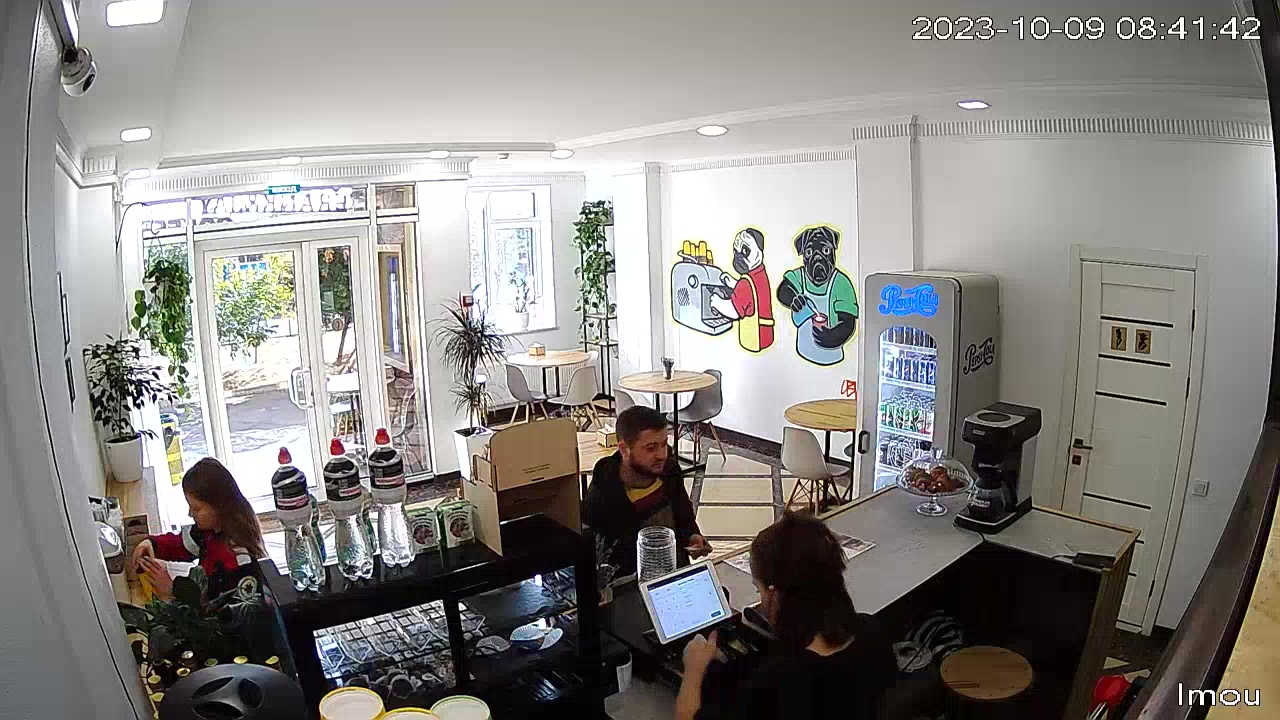openedcash: (633, 553, 773, 696)
